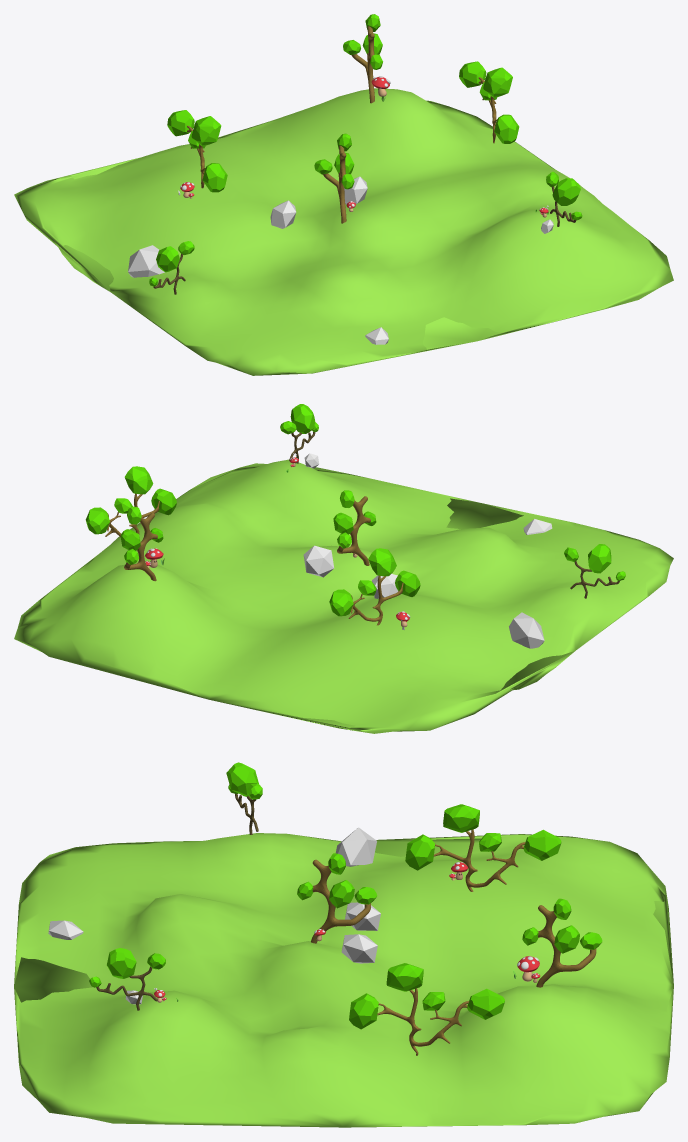
File: terrainn 1.fbx
3 renders of one model, top to bottom at view 1: azimuth 30°, elevation 25°; view 2: azimuth 150°, elevation 25°; view 3: azimuth 270°, elevation 25°, orthographic. The views are drawn at different scales.
Visible parts, largest first — view 1: Plane, Icosphere.027, Icosphere, Icosphere.018, Icosphere.005, Icosphere.002, Icosphere.019, Vert.005, Icosphere.023, Icosphere.020, Icosphere.004, Vert.002; view 2: Plane, Icosphere.027, Icosphere.022, Vert.005, Vert.002, Icosphere, Icosphere.018, Icosphere.005, Icosphere.012, Vert, Icosphere.020, Icosphere.004 (+2 smaller); view 3: Plane, Icosphere.027, Vert.002, Vert.006, Vert.005, Vert, Icosphere.022, Icosphere.018, Icosphere, Icosphere.004, Icosphere.020, Icosphere.002 (+4 smaller).
Part boxes in pixels (x1,y1,x2,y2): Plane: (14, 88, 673, 375); Icosphere.027: (128, 245, 164, 277); Icosphere: (191, 116, 221, 146); Icosphere.018: (483, 67, 512, 97); Icosphere.005: (552, 178, 580, 205); Icosphere.002: (202, 163, 227, 192); Icosphere.019: (494, 114, 519, 143); Vert.005: (323, 145, 346, 223); Icosphere.023: (270, 200, 296, 228); Icosphere.020: (459, 61, 486, 87); Icosphere.004: (167, 110, 194, 136); Vert.002: (351, 26, 374, 103); Plane: (14, 459, 673, 733); Icosphere.027: (509, 612, 544, 648); Icosphere.022: (303, 545, 334, 577); Vert.005: (337, 496, 370, 565); Vert.002: (124, 512, 157, 581); Icosphere: (368, 548, 396, 576); Icosphere.018: (124, 466, 153, 494); Icosphere.005: (290, 404, 315, 433); Icosphere.012: (588, 544, 611, 573); Vert: (348, 575, 403, 625); Icosphere.020: (85, 507, 109, 534); Icosphere.004: (329, 589, 353, 616); Plane: (14, 833, 673, 1127); Icosphere.027: (335, 827, 376, 866); Vert.002: (536, 905, 596, 987); Vert.006: (377, 988, 468, 1055); Vert.005: (311, 859, 370, 943); Vert: (433, 829, 525, 891); Icosphere.022: (341, 934, 377, 963); Icosphere.018: (386, 963, 423, 991); Icosphere: (443, 804, 479, 832); Icosphere.004: (523, 829, 561, 860); Icosphere.020: (467, 988, 504, 1019); Icosphere.002: (405, 834, 434, 870).
Size of the model in its own units: 5316 by 1533 by 5292.
